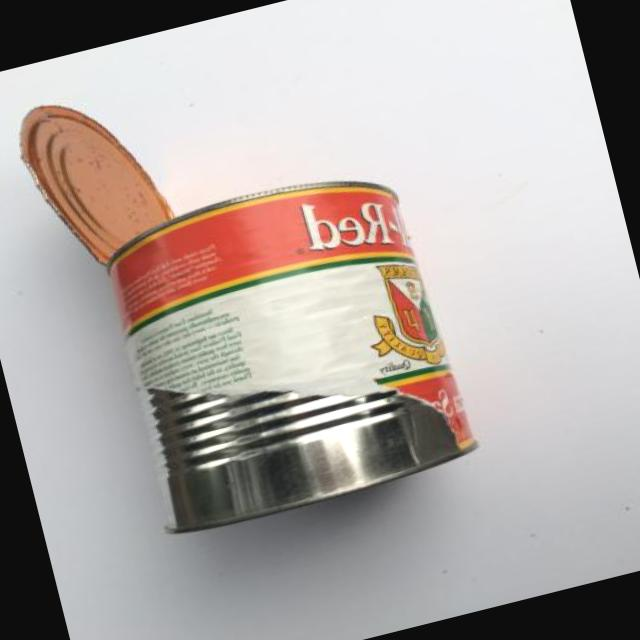metal: (145, 389, 472, 533)
